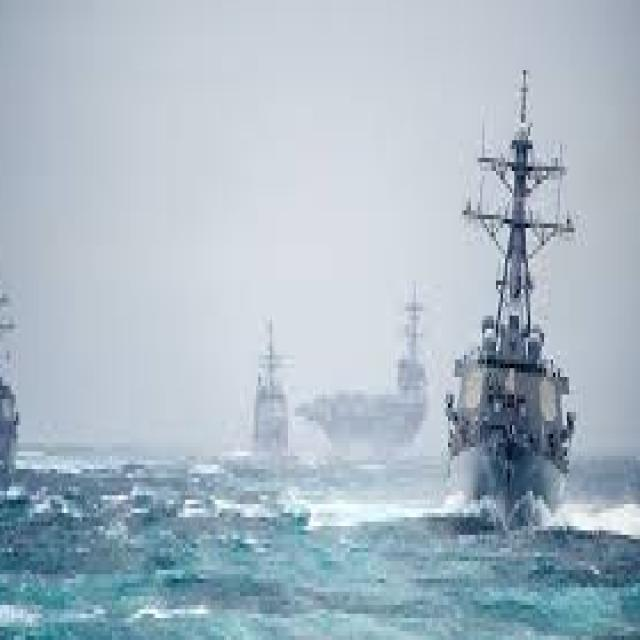navalvessels: (443, 61, 592, 520), (291, 286, 436, 468), (248, 308, 300, 454), (0, 258, 23, 478)
